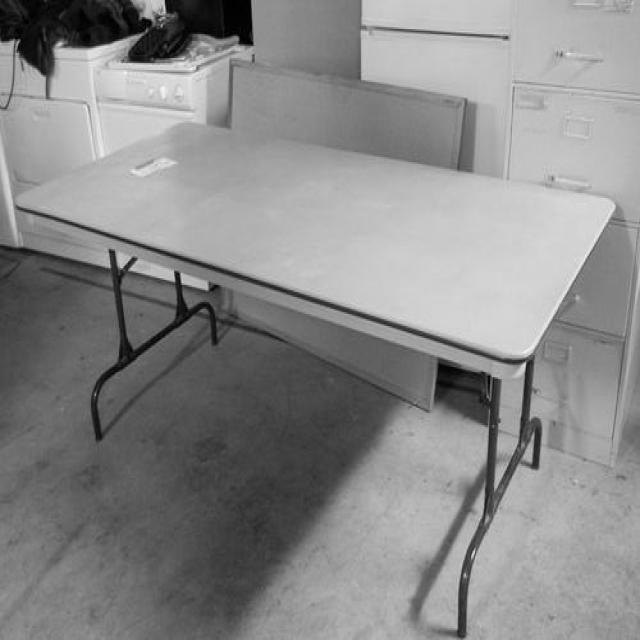table: (14, 116, 613, 636)
